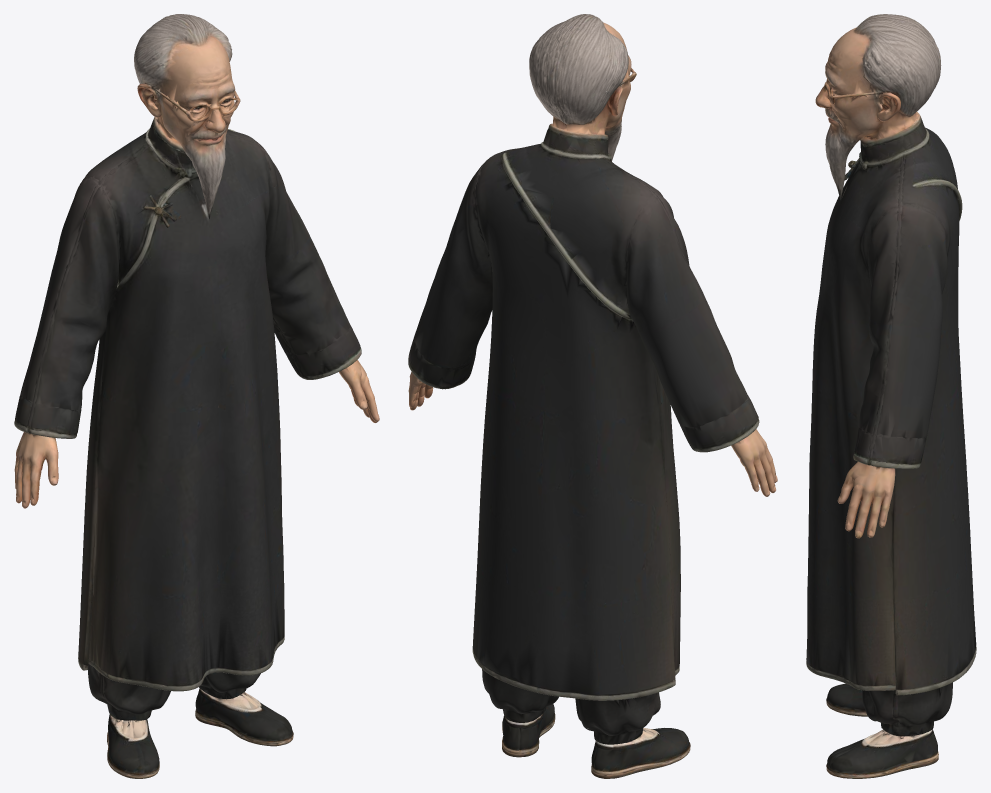
File: qi-baishi.glb
3 views of the same model, side by side, from view 1: azimuth 30°, elevation 25°; view 2: azimuth 150°, elevation 25°; view 3: azimuth 270°, elevation 25° (orthographic).
Parts seen in each view (by area): view 1: tripo_node_587a8e29-3f27-4c40-9c2e-1248d3d3af7c; view 2: tripo_node_587a8e29-3f27-4c40-9c2e-1248d3d3af7c; view 3: tripo_node_587a8e29-3f27-4c40-9c2e-1248d3d3af7c.
Boxes of the visible parts, bbox=[...] form: tripo_node_587a8e29-3f27-4c40-9c2e-1248d3d3af7c: bbox=[14, 14, 379, 778]; tripo_node_587a8e29-3f27-4c40-9c2e-1248d3d3af7c: bbox=[408, 14, 777, 778]; tripo_node_587a8e29-3f27-4c40-9c2e-1248d3d3af7c: bbox=[806, 14, 976, 778].
Size of the model in its own units: 0.5043 by 0.9794 by 0.2095.
1 material, 1 textured.
